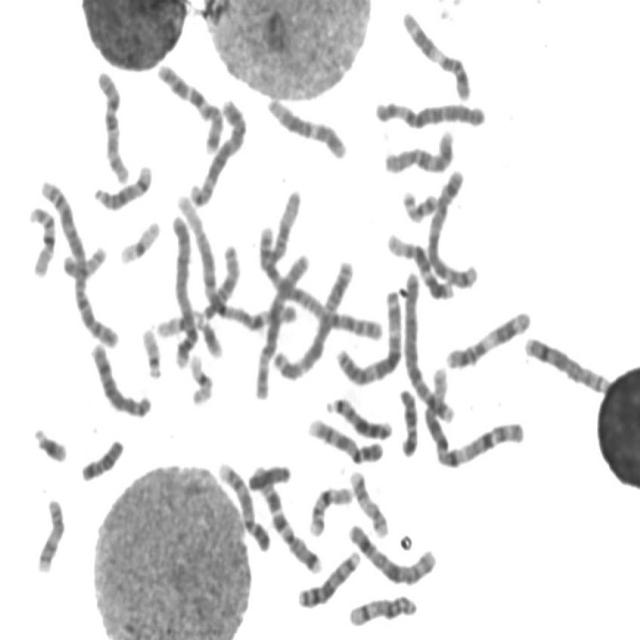A1: (168, 188, 302, 334), (421, 360, 527, 470)
A2: (252, 218, 382, 344), (34, 170, 122, 351)
A3: (267, 252, 355, 382), (332, 282, 406, 386)
B4: (402, 273, 459, 427), (167, 209, 200, 372)
B5: (184, 91, 250, 208), (423, 164, 481, 290)
C10: (92, 62, 132, 186), (380, 123, 458, 176)
C11: (397, 3, 474, 102), (440, 302, 534, 370)
C12: (262, 89, 350, 160), (383, 226, 457, 300)
C6: (250, 246, 314, 402), (370, 92, 489, 131)
C7: (248, 458, 326, 577), (153, 56, 226, 154)
C8: (520, 328, 613, 396), (87, 336, 155, 420)
C9: (214, 455, 272, 553), (304, 410, 387, 466)
D13: (294, 544, 363, 610), (322, 389, 396, 442)
D14: (89, 158, 155, 212), (344, 588, 420, 629)
D15: (198, 238, 244, 322), (260, 182, 304, 268)
E16: (305, 479, 355, 538), (24, 198, 58, 278)
E17: (346, 464, 391, 539), (32, 490, 67, 576)
E18: (76, 432, 126, 482), (394, 382, 421, 458)
F19: (116, 214, 162, 266), (184, 346, 217, 406)
F20: (58, 238, 109, 280), (398, 182, 441, 224)
G21: (29, 420, 70, 464), (192, 308, 226, 360)
G22: (154, 304, 204, 340), (138, 320, 164, 380)
X: (344, 516, 440, 588)
Y: (244, 458, 294, 492)
